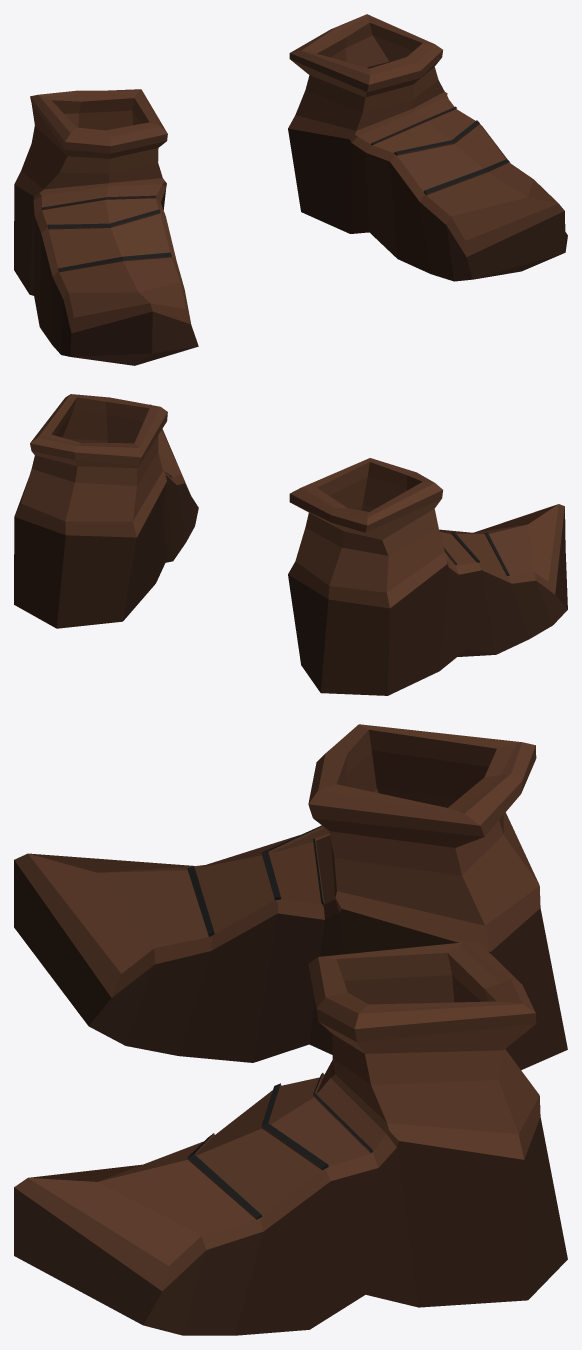
The model's file is Leg_Robe.fbx.
3 renders of one model, top to bottom at view 1: azimuth 30°, elevation 25°; view 2: azimuth 150°, elevation 25°; view 3: azimuth 270°, elevation 25°, orthographic. The views are drawn at different scales.
Parts seen in each view (by area): view 1: Cube.004; view 2: Cube.004; view 3: Cube.004.
Part boxes in pixels (x1,y1,x2,y2): Cube.004: (14,14,567,365); Cube.004: (14,394,567,695); Cube.004: (14,724,567,1335).
Bounding box in the file's own units: 135 × 50.57 × 80.02.
